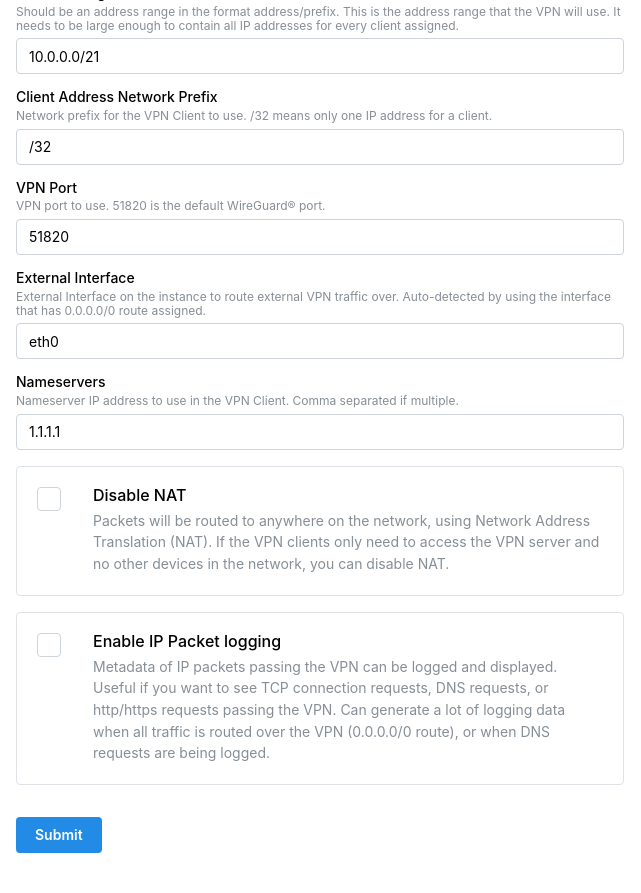
VPNSetup › loads VPN settings and saves them
The width and height of the screenshot is (641, 893).
(page scrolled)
Expected: the 1st field showing "10.0.0.0/21" is shown, [16,38,624,74]
Click the button "Submit": (59, 835) [16,817,102,853]
(page scrolled)
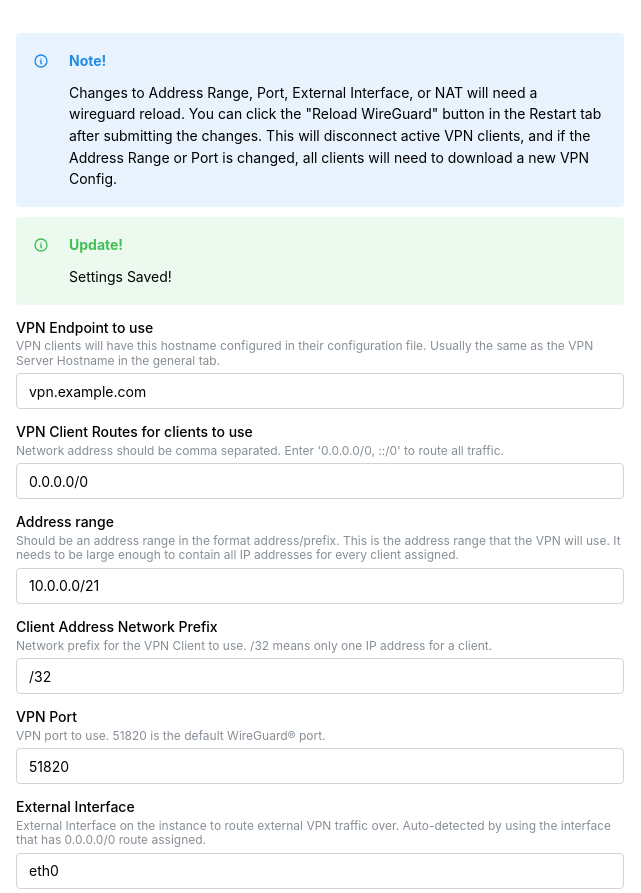
Now the text "Settings Saved!" is shown, box [69,268,172,285]
